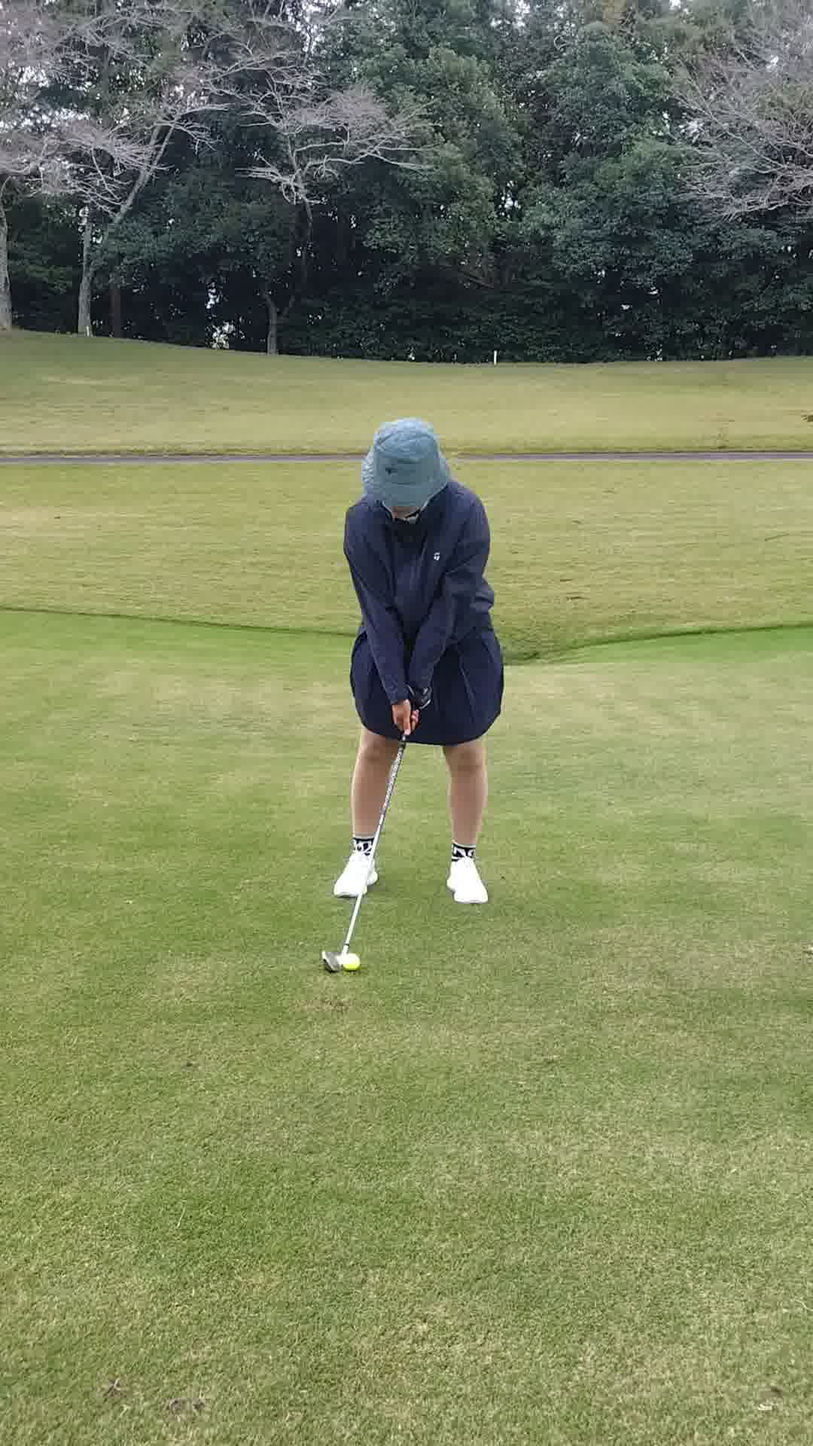clubhead: (249, 915, 407, 1039)
